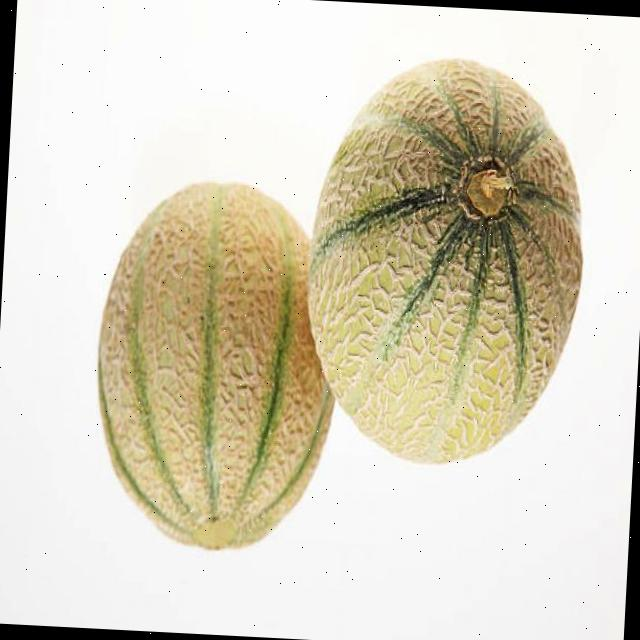Hami Melon: (294, 49, 594, 472), (88, 178, 347, 558)
